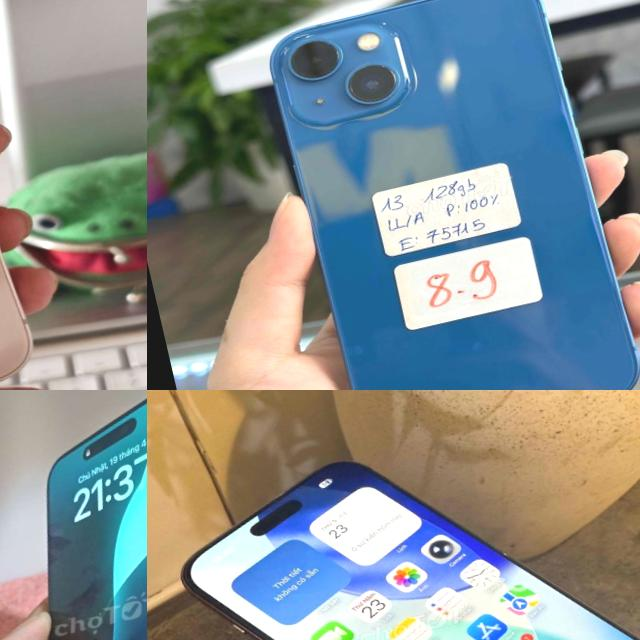gen_12_13: (250, 0, 640, 390), (0, 0, 47, 390)
gen_15: (0, 390, 147, 640)
gen_16: (182, 462, 640, 640)
